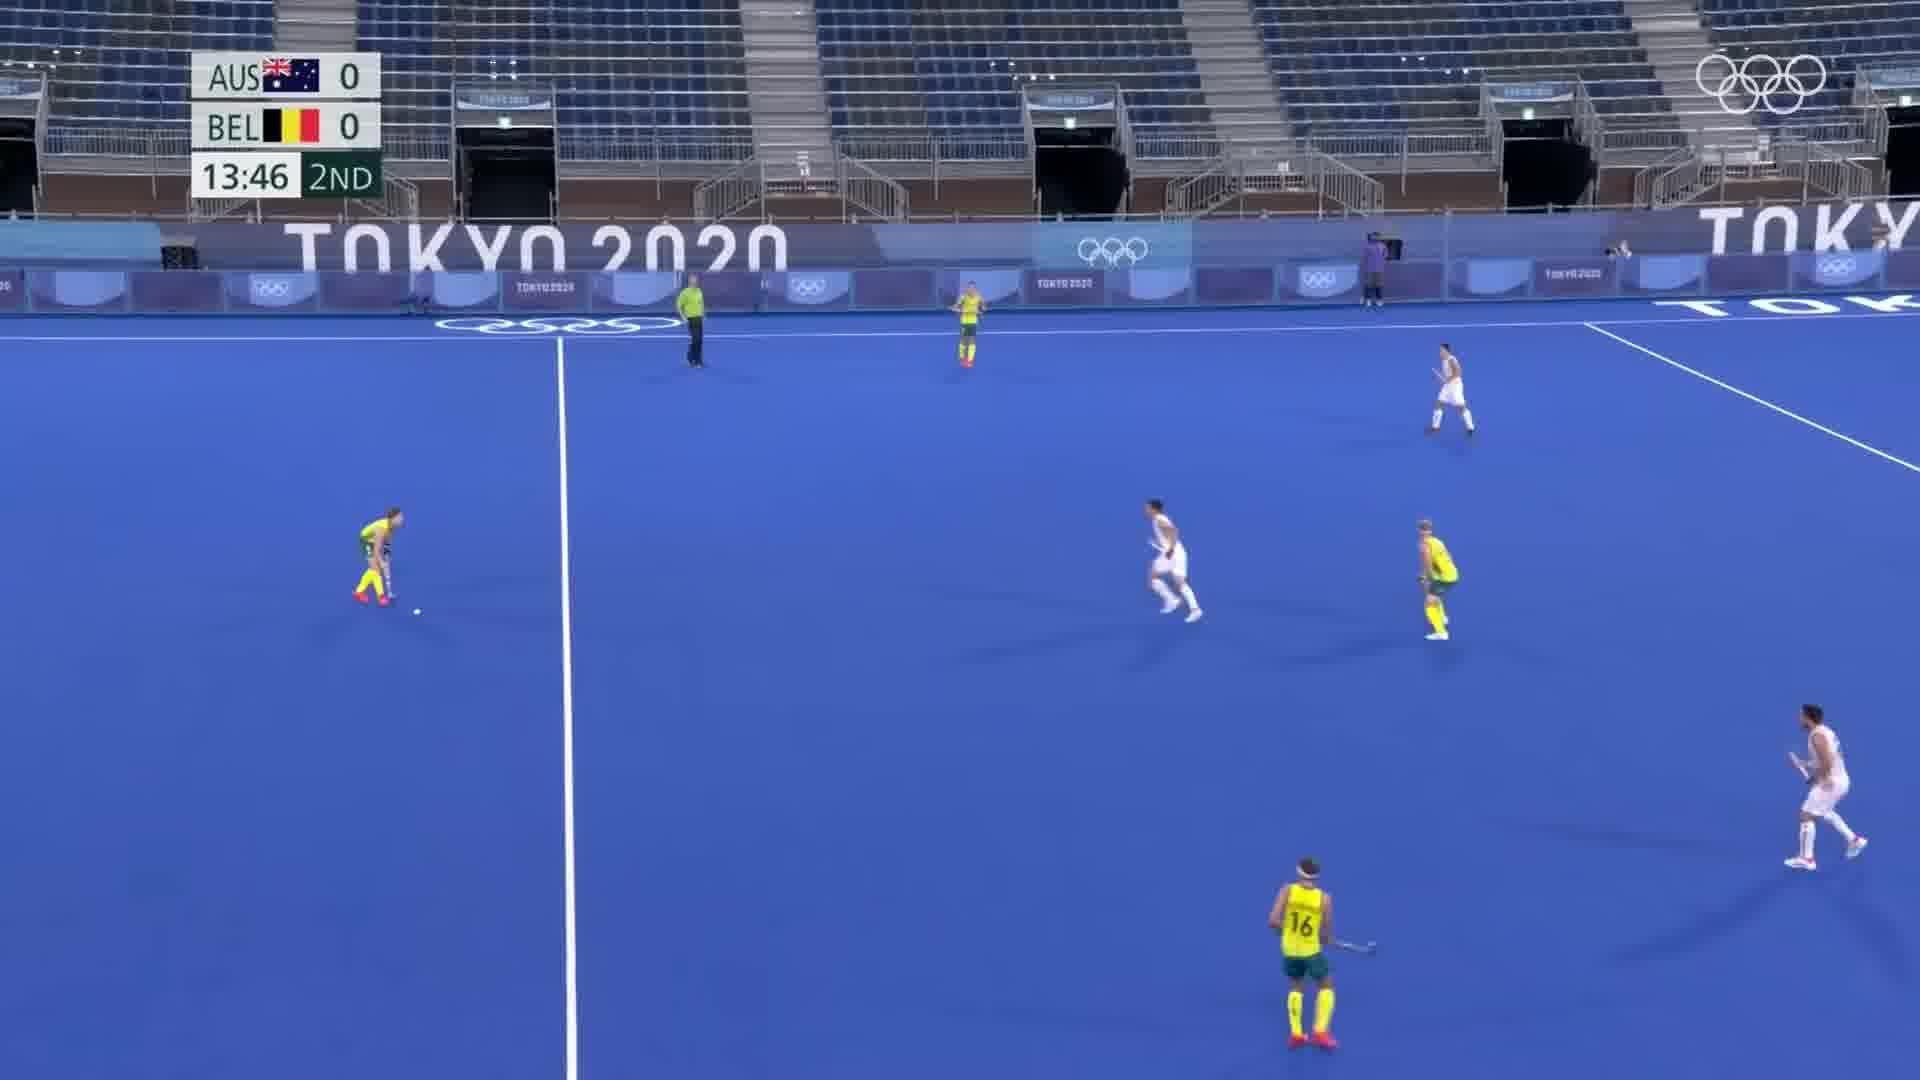ball: (409, 604, 427, 620)
